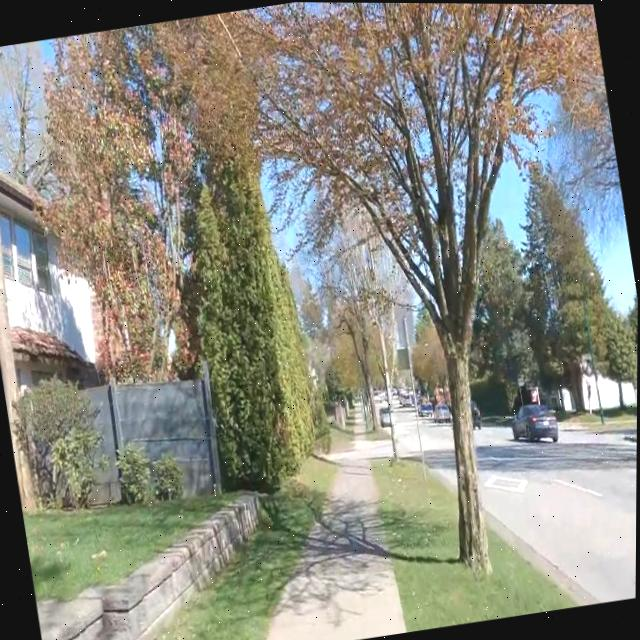Automobile: (512, 404, 559, 440), (434, 403, 451, 421), (471, 400, 481, 429), (419, 402, 432, 417)
Road: (475, 425, 637, 602), (420, 422, 455, 486), (420, 419, 454, 464), (395, 407, 420, 456), (343, 441, 391, 458), (449, 470, 456, 492)
Sidewalk: (266, 449, 407, 640)
